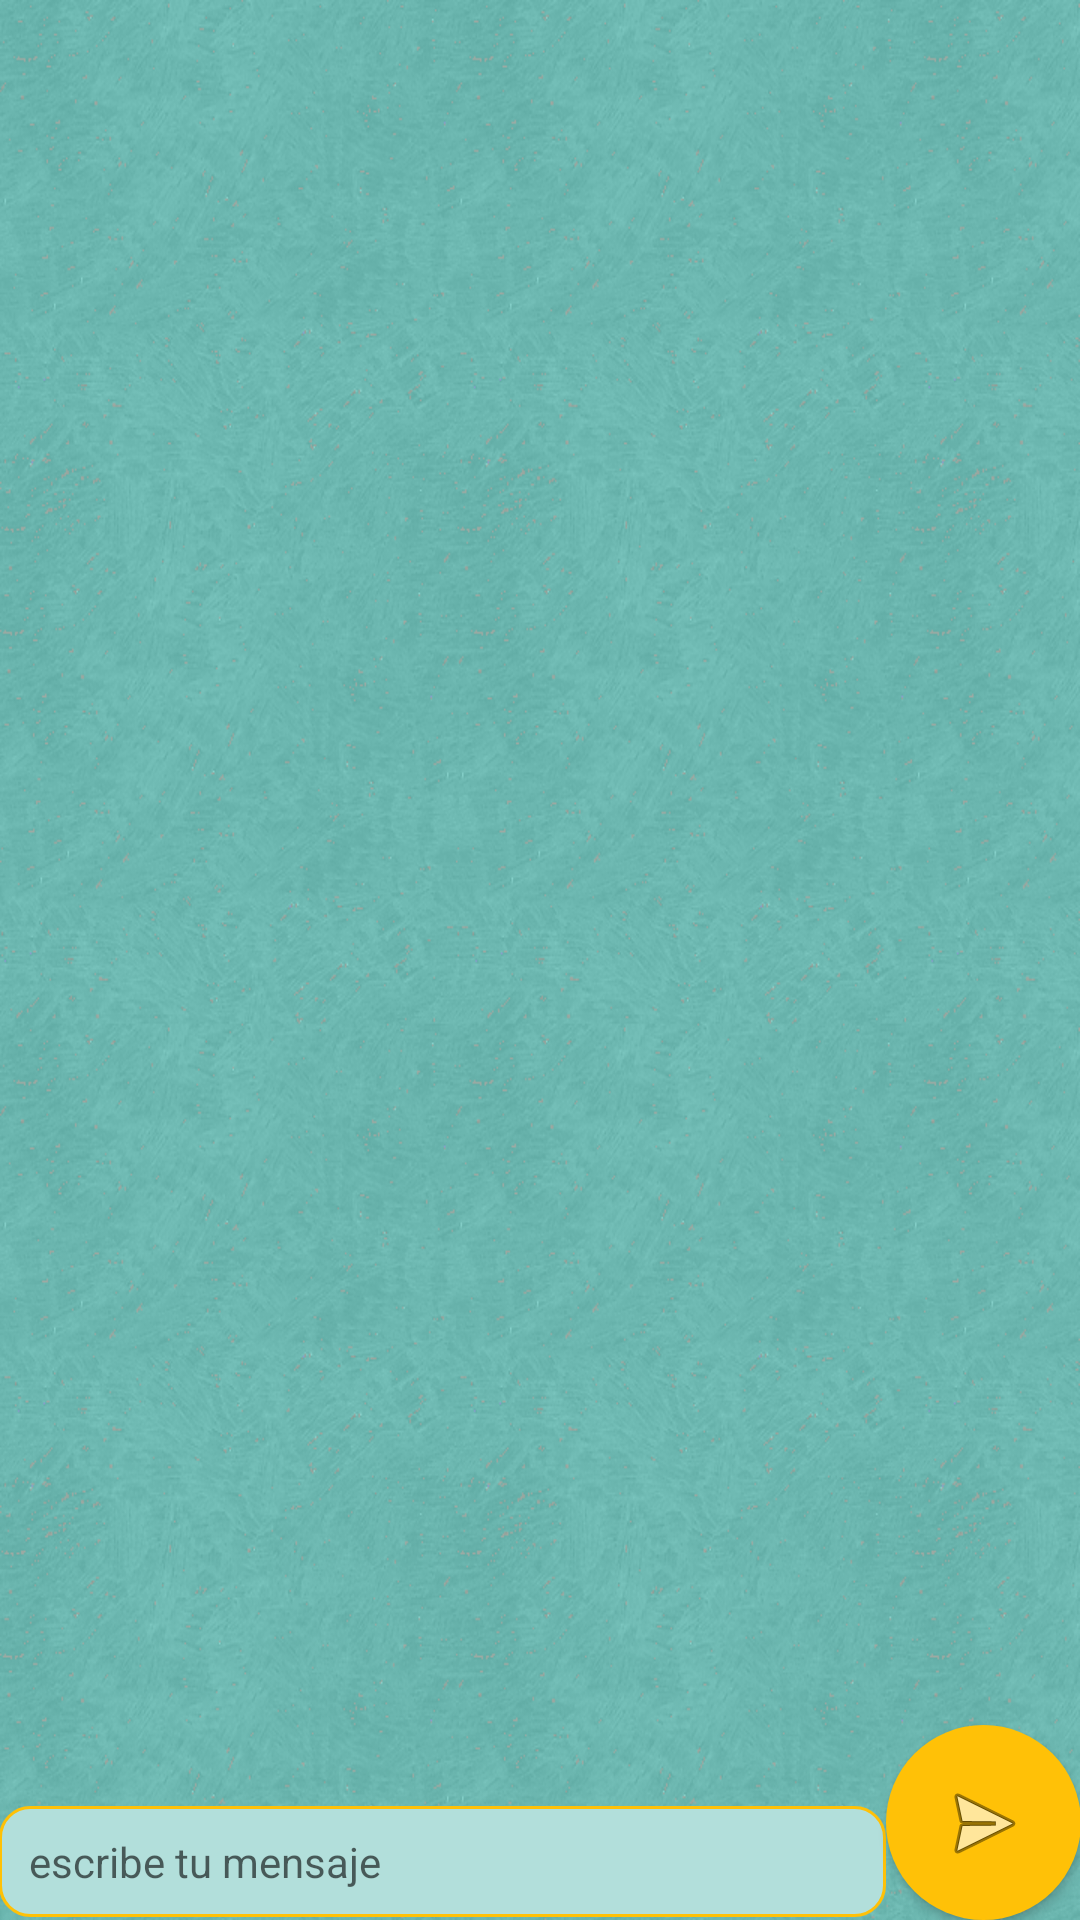

Named icons in this screenshot (1080*1920) and their bounding boxes, [x1, y1, x2, y2]:
send: [886, 1725, 1080, 1920]
